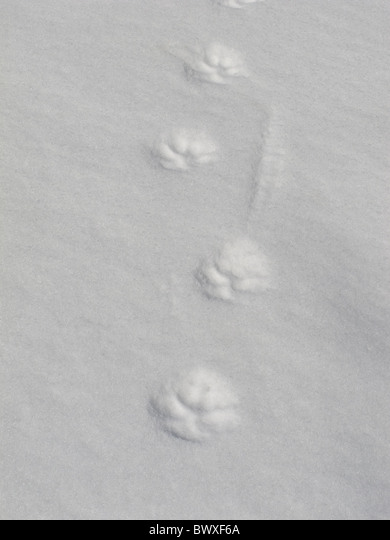fox: (145, 362, 249, 443), (194, 233, 275, 307), (151, 126, 222, 176), (178, 43, 256, 87)
